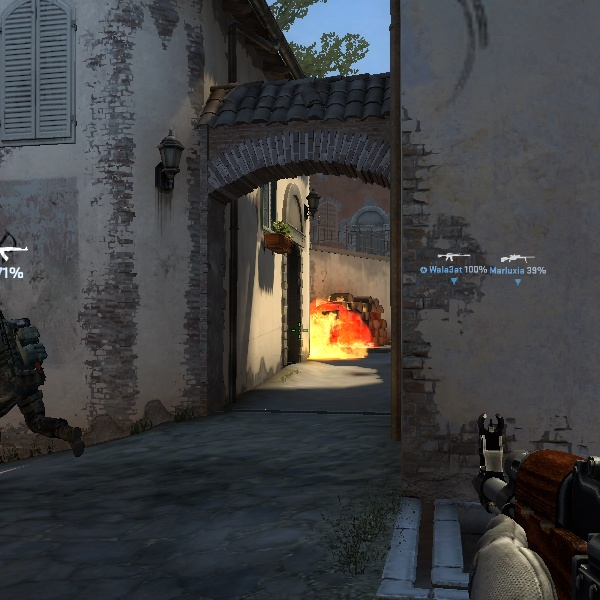ct_body: (0, 301, 56, 459)
